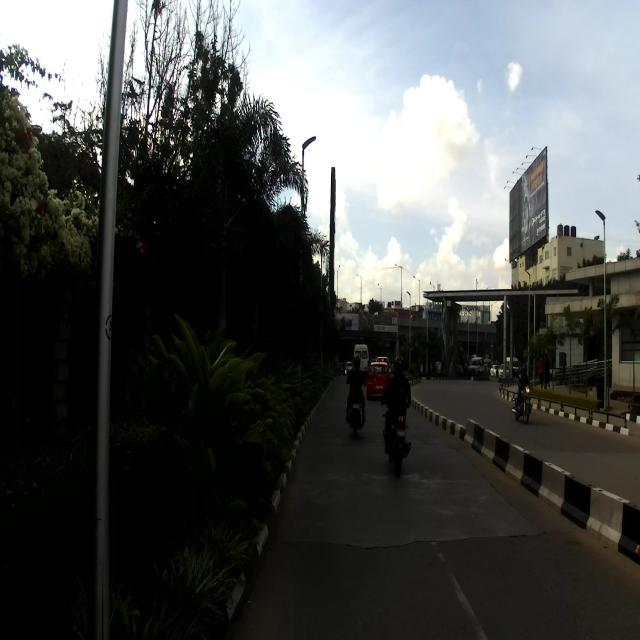motorcycle_bajaj: (380, 388, 412, 477)
